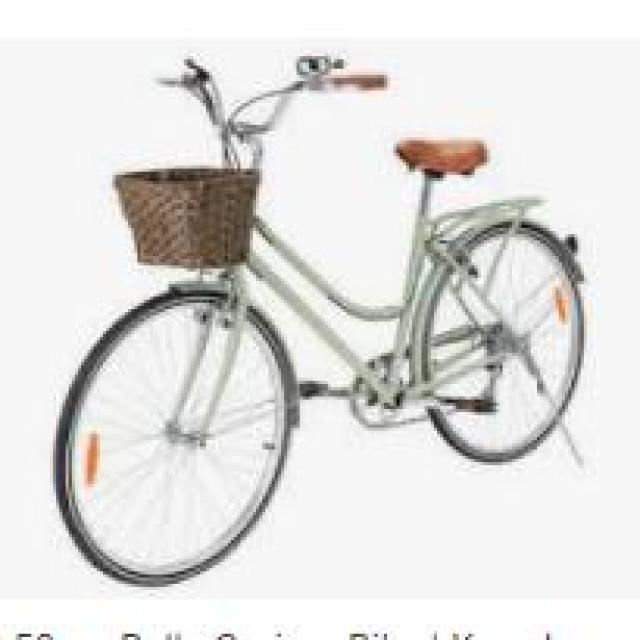bicycle: (57, 45, 588, 576)
